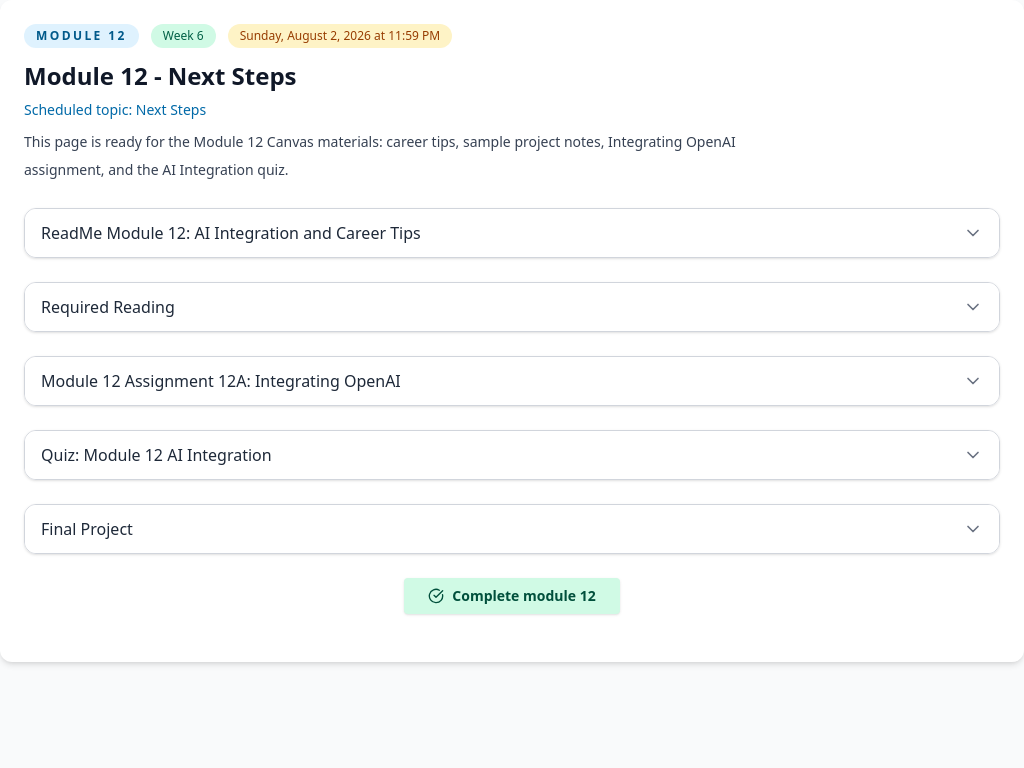
<AssignmentMod12 /> › renders the complete Module 12 quiz instead of a placeholder
Click the button "Quiz: Module 12 AI Integration". click: (156, 455)
box: [25,431,999,479]
(page scrolled)
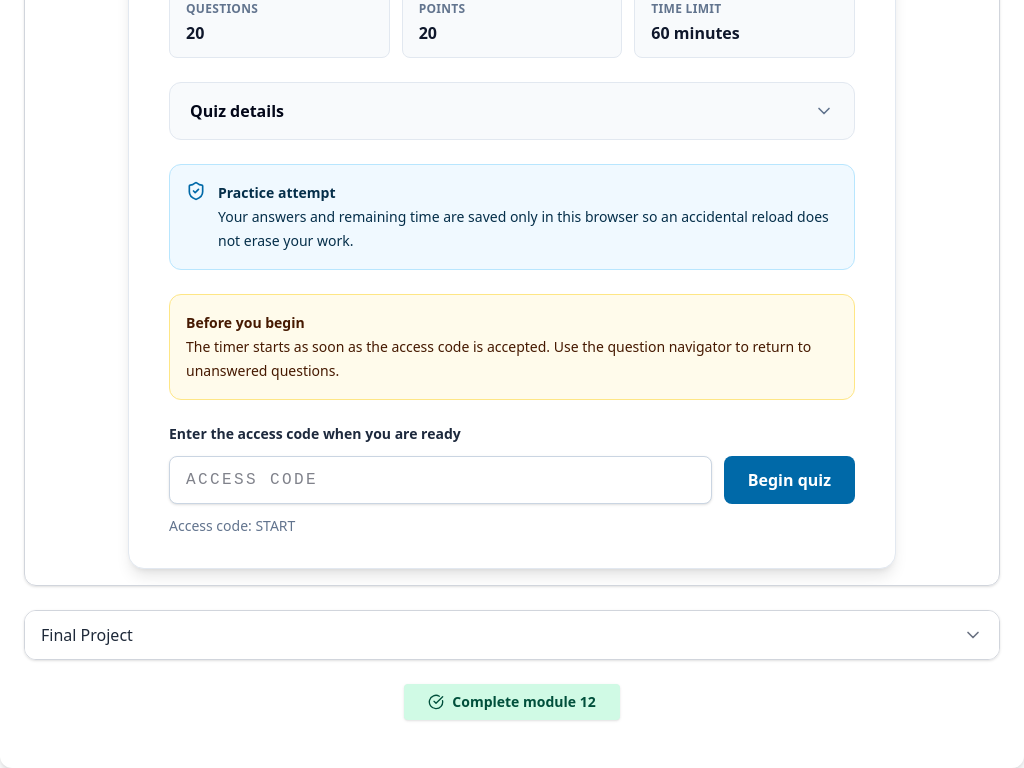
Expected: the button "Begin quiz" is shown, [724,456,855,504]
